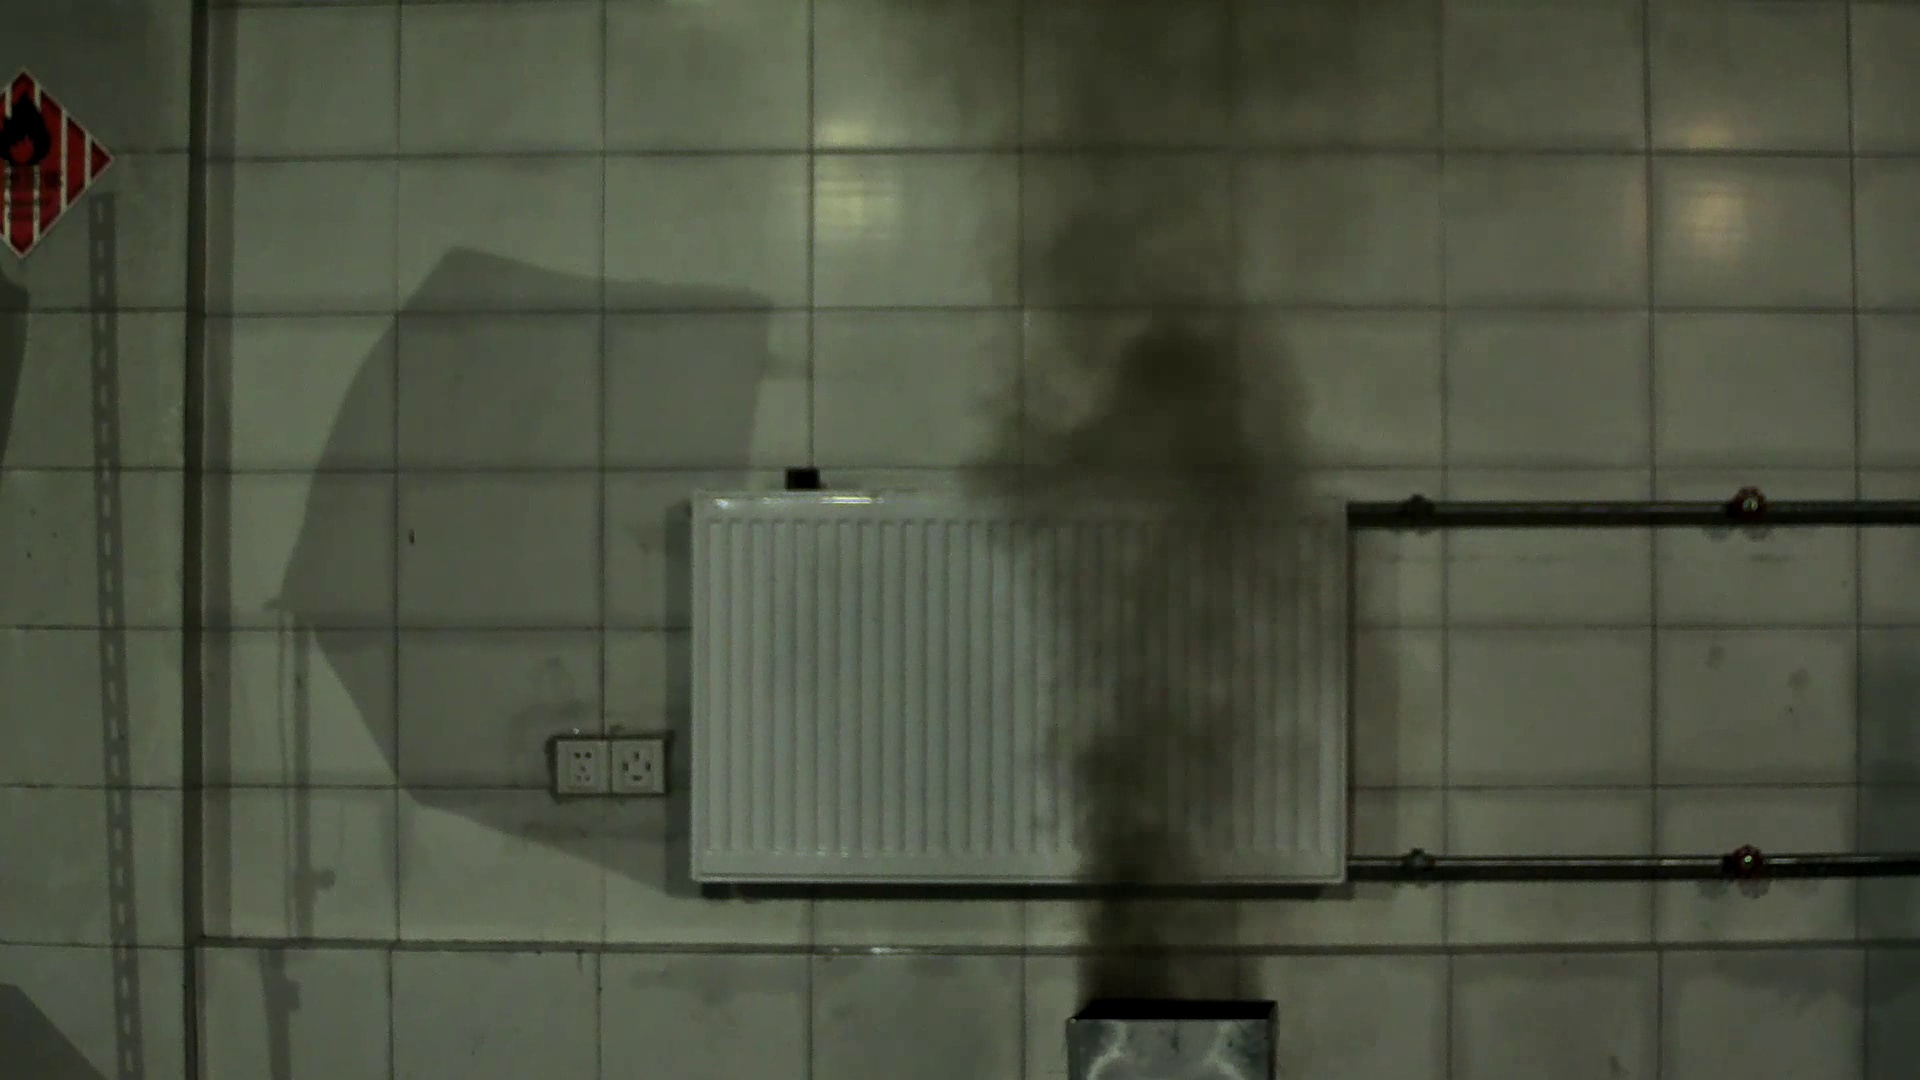smoke: (981, 200, 1340, 996)
